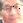without_mask: (2, 1, 23, 23)
